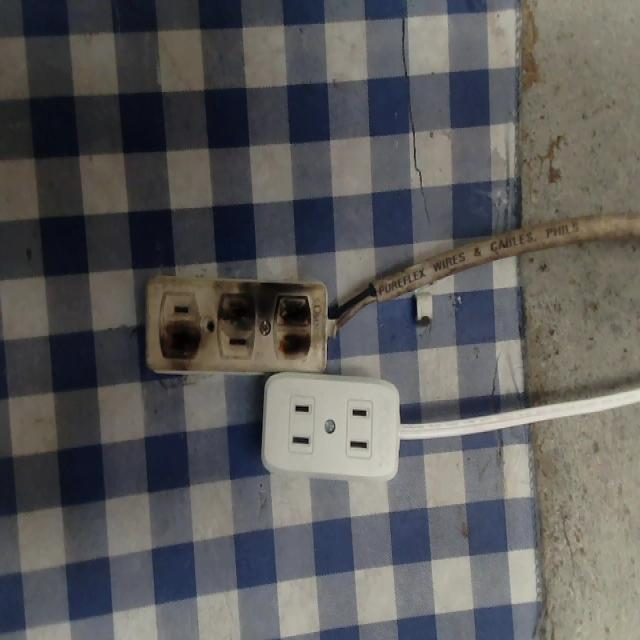-: (271, 273, 324, 367), (154, 309, 204, 364), (211, 285, 258, 339)
